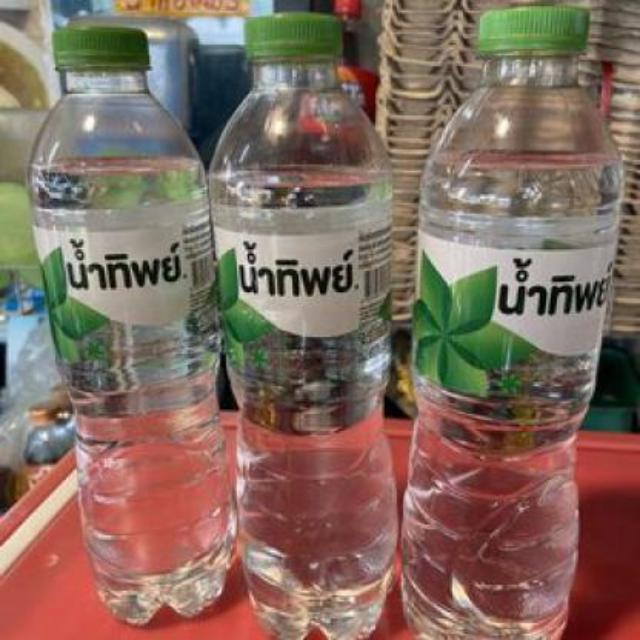bottle: (388, 0, 632, 638), (23, 10, 247, 636), (198, 8, 412, 638)
